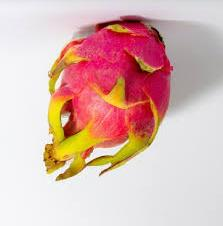dragon fruit: (42, 17, 173, 181)
